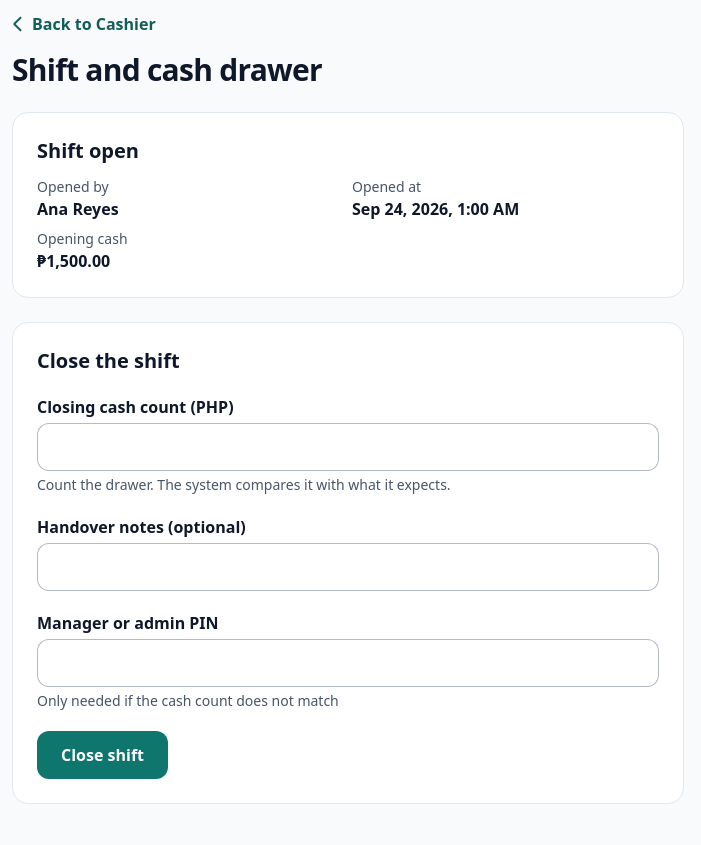
Test case: closing a shift › will not open the confirm dialog without a count
This screenshot has width=701, height=845.
Click the button "Close shift": (102, 755) left=37, top=731, right=168, bottom=779
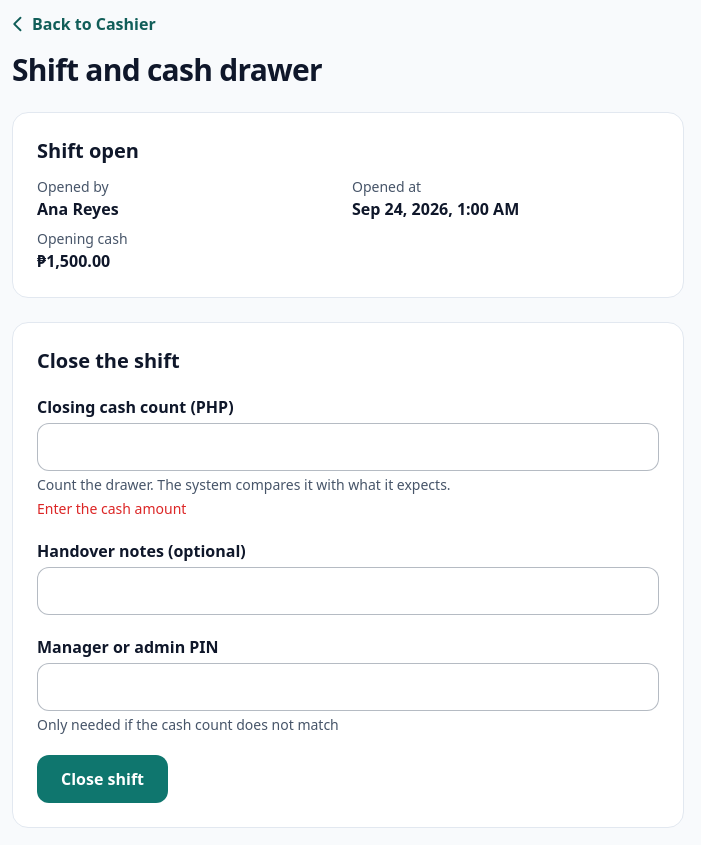
Now the text "Enter the cash amount" is shown, box left=37, top=499, right=186, bottom=518
